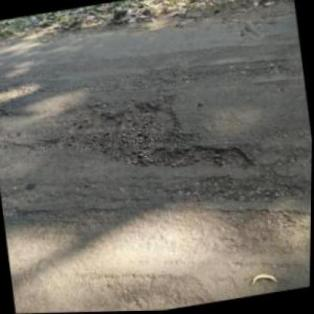Hueco: (33, 79, 256, 203)
